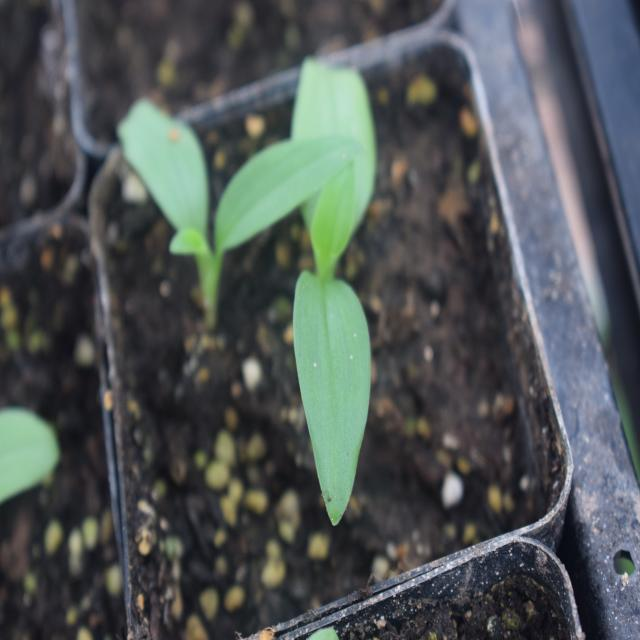Common Dayflower: (267, 53, 400, 514)
